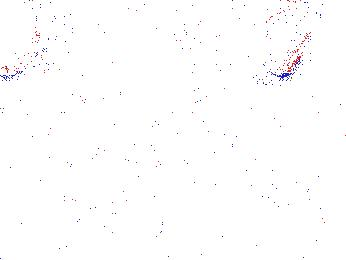moon jellyfish: (174, 1, 273, 49), (257, 8, 317, 77), (1, 1, 49, 78)
